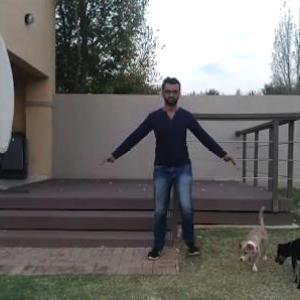land: (91, 89, 234, 250)
